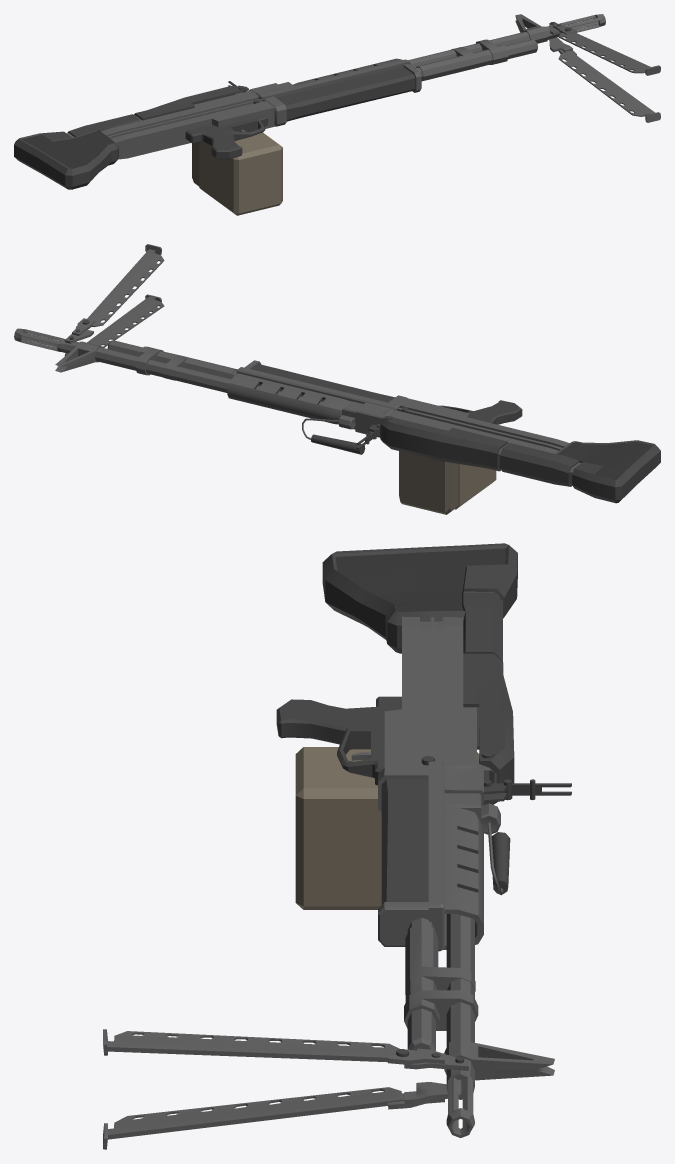
File: Western_machine_gun.fbx
3 views of the same model, one above another, from view 1: azimuth 30°, elevation 25°; view 2: azimuth 150°, elevation 25°; view 3: azimuth 270°, elevation 25° (orthographic). The views are drawn at different scales.
Parts seen in each view (by area): view 1: Western_machine_gun; view 2: Western_machine_gun; view 3: Western_machine_gun.
Boxes of the visible parts, bbox=[...] form: Western_machine_gun: bbox=[14, 14, 660, 215]; Western_machine_gun: bbox=[14, 244, 660, 514]; Western_machine_gun: bbox=[103, 543, 571, 1149].
Bounding box in the file's own units: 56.28 × 8.92 × 19.81.
